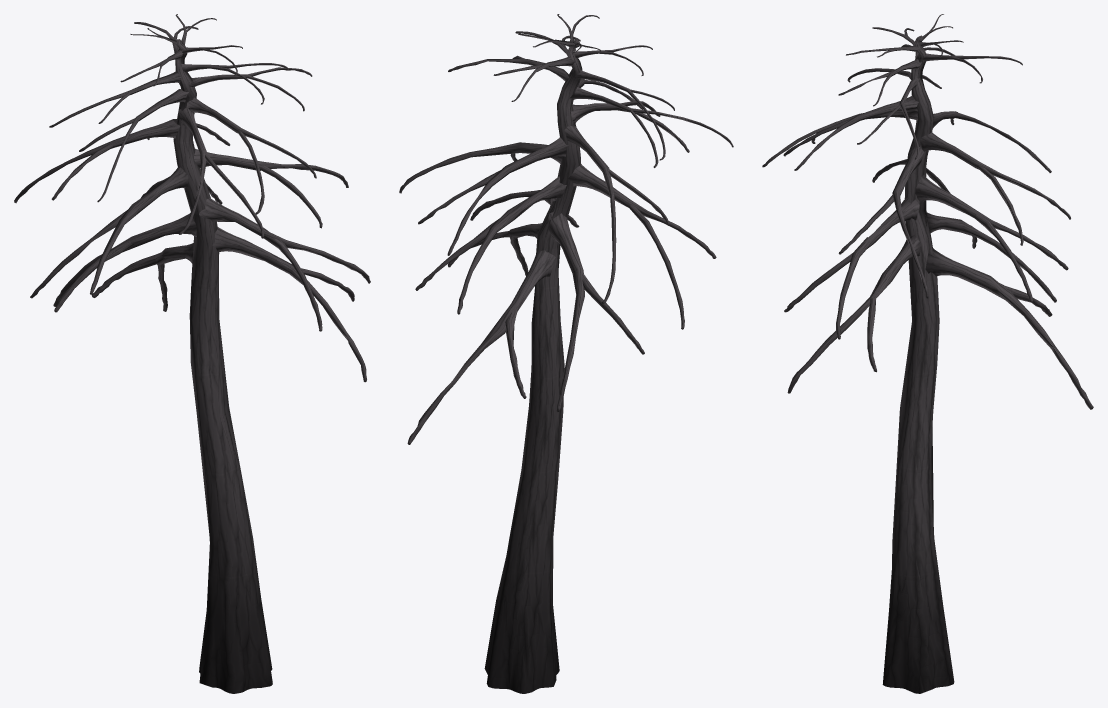
Rendered from dead3.glb.
3 renders of one model, left to right at view 1: azimuth 30°, elevation 25°; view 2: azimuth 150°, elevation 25°; view 3: azimuth 270°, elevation 25°, orthographic. The views are drawn at different scales.
Visible parts, largest first — view 1: DeadTree_3; view 2: DeadTree_3; view 3: DeadTree_3.
Part boxes in pixels (x1=…): DeadTree_3: x1=14, y1=14, x2=370, y2=693; DeadTree_3: x1=399, y1=14, x2=733, y2=693; DeadTree_3: x1=762, y1=14, x2=1093, y2=693.
Bounding box in the file's own units: 6.39 × 13.28 × 6.43.
1 material, 1 textured.
